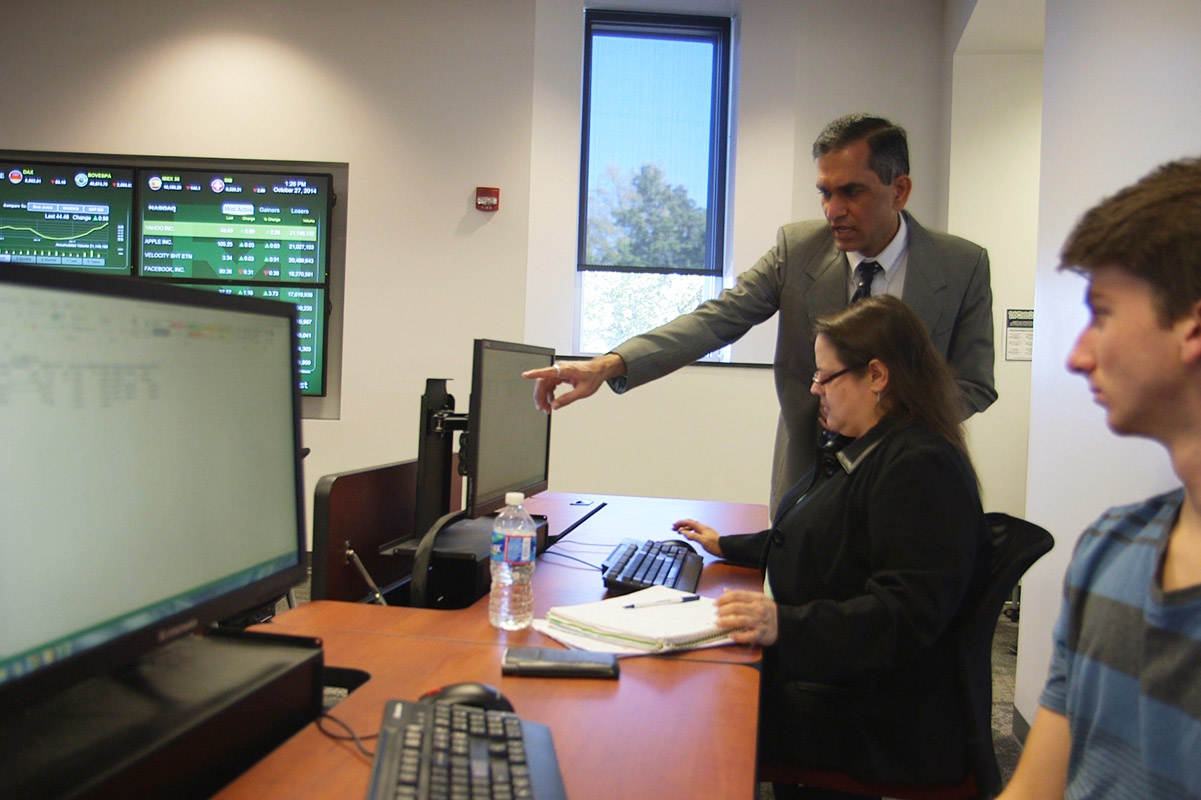Person: (519, 110, 1002, 527), (670, 293, 991, 800)
